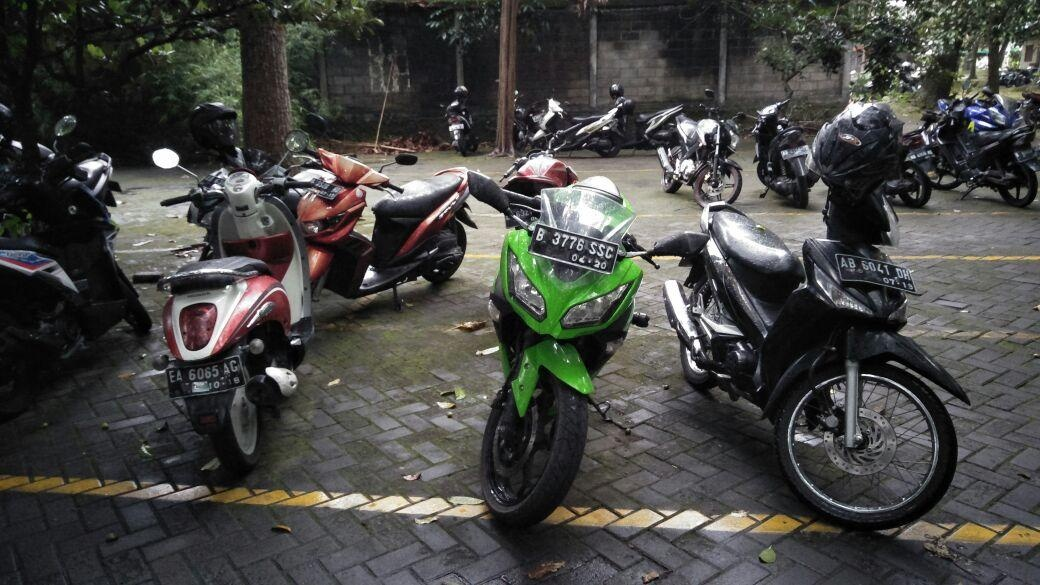plate: (528, 223, 621, 277), (164, 355, 246, 402), (833, 251, 917, 296)
